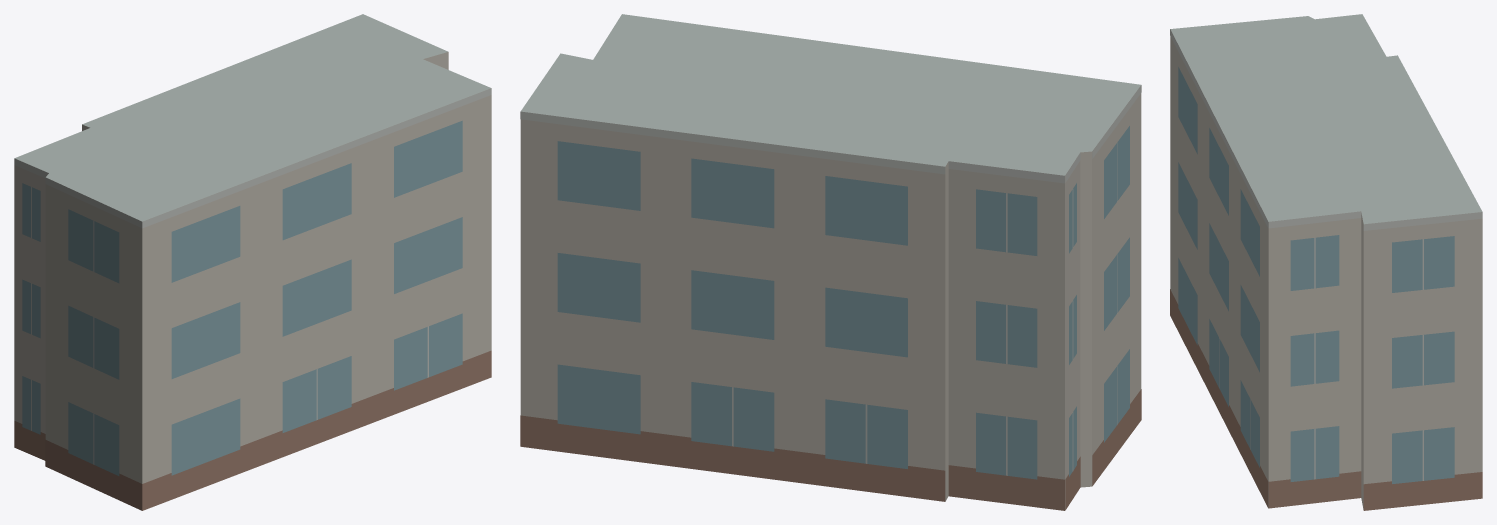
Rendered from survey-upis-32499785.glb.
The picture shows the model from 3 angles, left to right: view 1: azimuth 30°, elevation 25°; view 2: azimuth 150°, elevation 25°; view 3: azimuth 270°, elevation 25°; orthographic projection. The views are drawn at different scales.
Visible parts, largest first — view 1: survey-upis-32499785.tmp; view 2: survey-upis-32499785.tmp; view 3: survey-upis-32499785.tmp.
Part boxes in pixels (x1,y1,x2,y2): survey-upis-32499785.tmp: [14, 14, 491, 510]; survey-upis-32499785.tmp: [520, 14, 1141, 510]; survey-upis-32499785.tmp: [1170, 14, 1482, 510].
Bounding box in the file's own units: 16.53 × 10.5 × 10.38.
